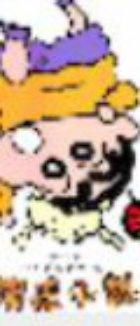ImgView: (1, 1, 139, 325)
